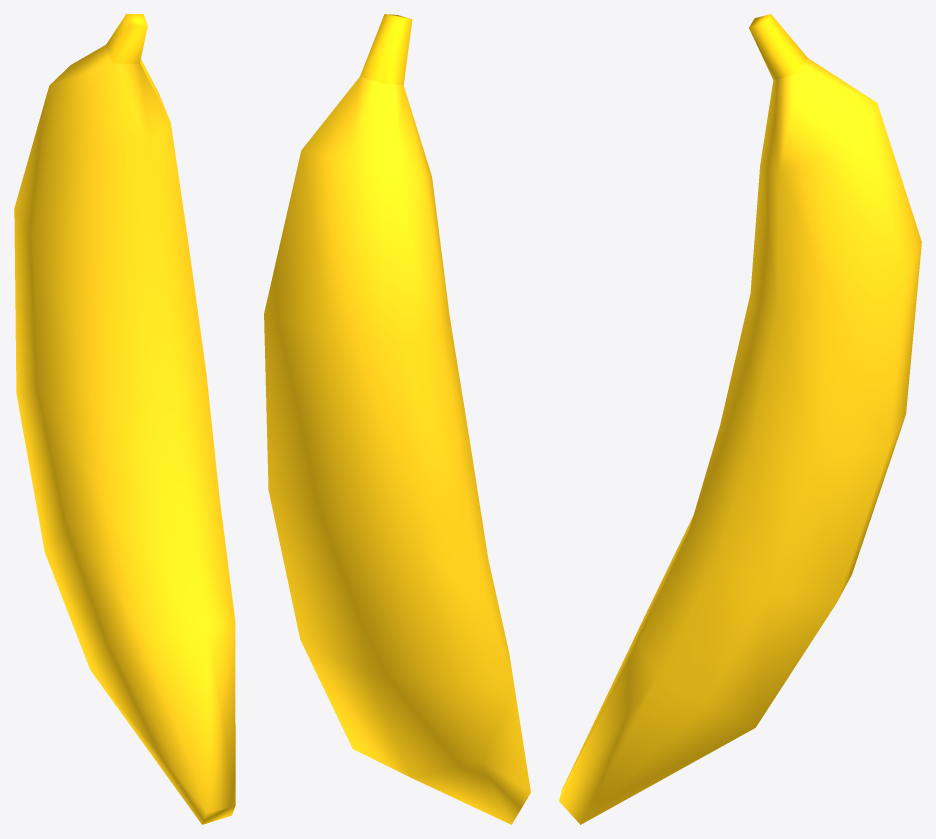
Rendered from BananaGold.glb.
3 renders of one model, left to right at view 1: azimuth 30°, elevation 25°; view 2: azimuth 150°, elevation 25°; view 3: azimuth 270°, elevation 25°, orthographic. The views are drawn at different scales.
Parts seen in each view (by area): view 1: BananaSingleGold; view 2: BananaSingleGold; view 3: BananaSingleGold.
Part boxes in pixels (box(x1,y1,x2,y2)): BananaSingleGold: box(14, 14, 235, 824); BananaSingleGold: box(264, 14, 530, 824); BananaSingleGold: box(559, 14, 921, 824).
Size of the model in its own units: 0.0741 by 0.3539 by 0.1443.
1 material, 1 textured.
